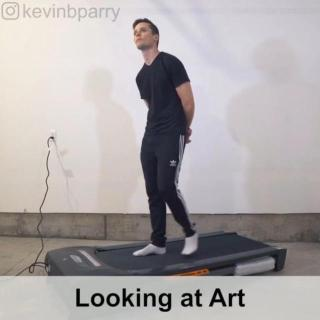person - v3 P: (119, 14, 206, 260)
